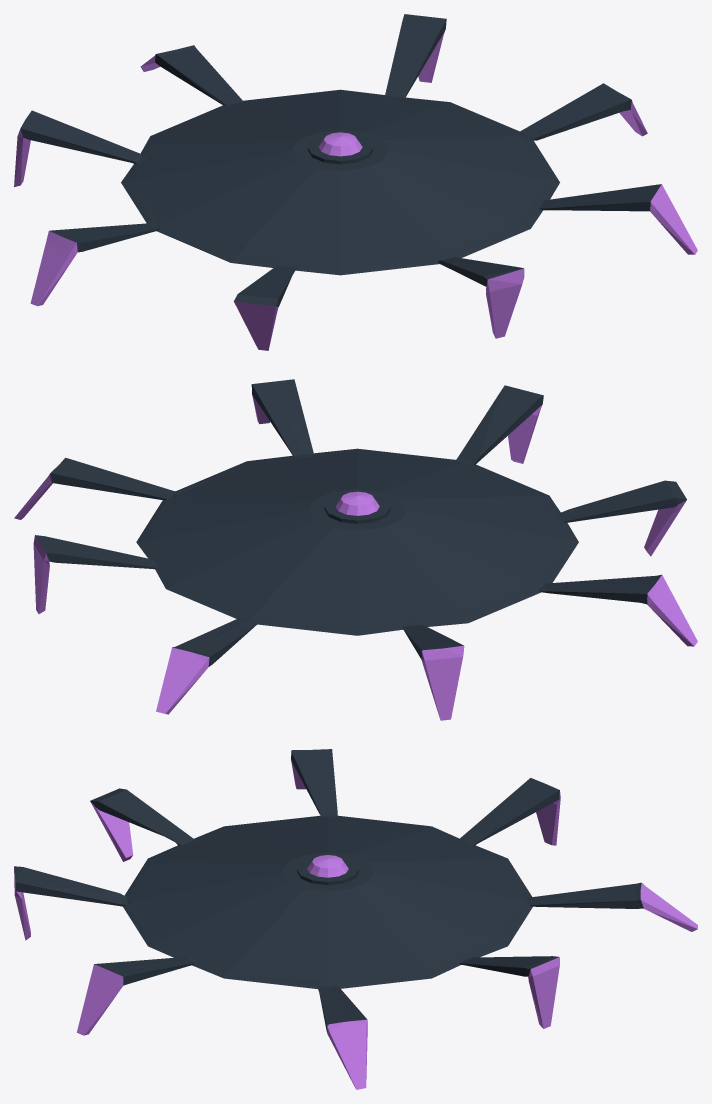
Rendered from Spider_Walk_000015.obj.
3 renders of one model, top to bottom at view 1: azimuth 30°, elevation 25°; view 2: azimuth 150°, elevation 25°; view 3: azimuth 270°, elevation 25°, orthographic. The views are drawn at different scales.
Visible parts, largest first — view 1: Circle_Circle.001; view 2: Circle_Circle.001; view 3: Circle_Circle.001.
Boxes of the visible parts, <box> form: Circle_Circle.001: <box>14,14,697,350</box>; Circle_Circle.001: <box>14,379,697,720</box>; Circle_Circle.001: <box>14,749,697,1089</box>.
Bounding box in the file's own units: 3.39 × 0.4586 × 3.29.
